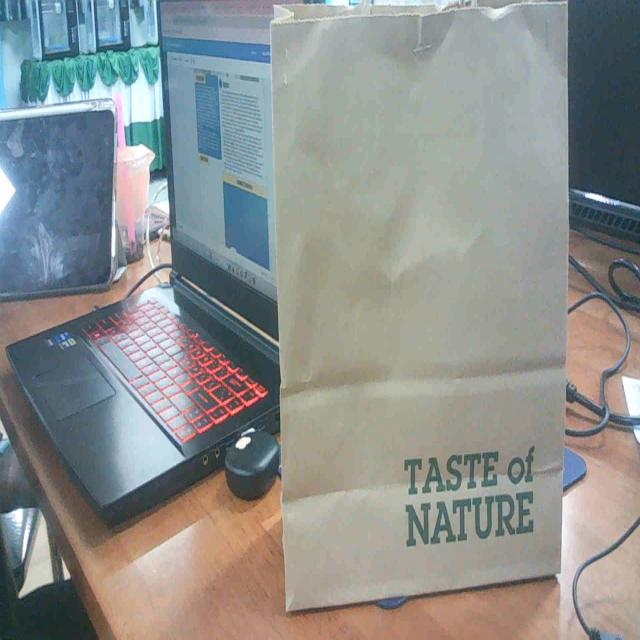bag: (238, 0, 594, 630)
